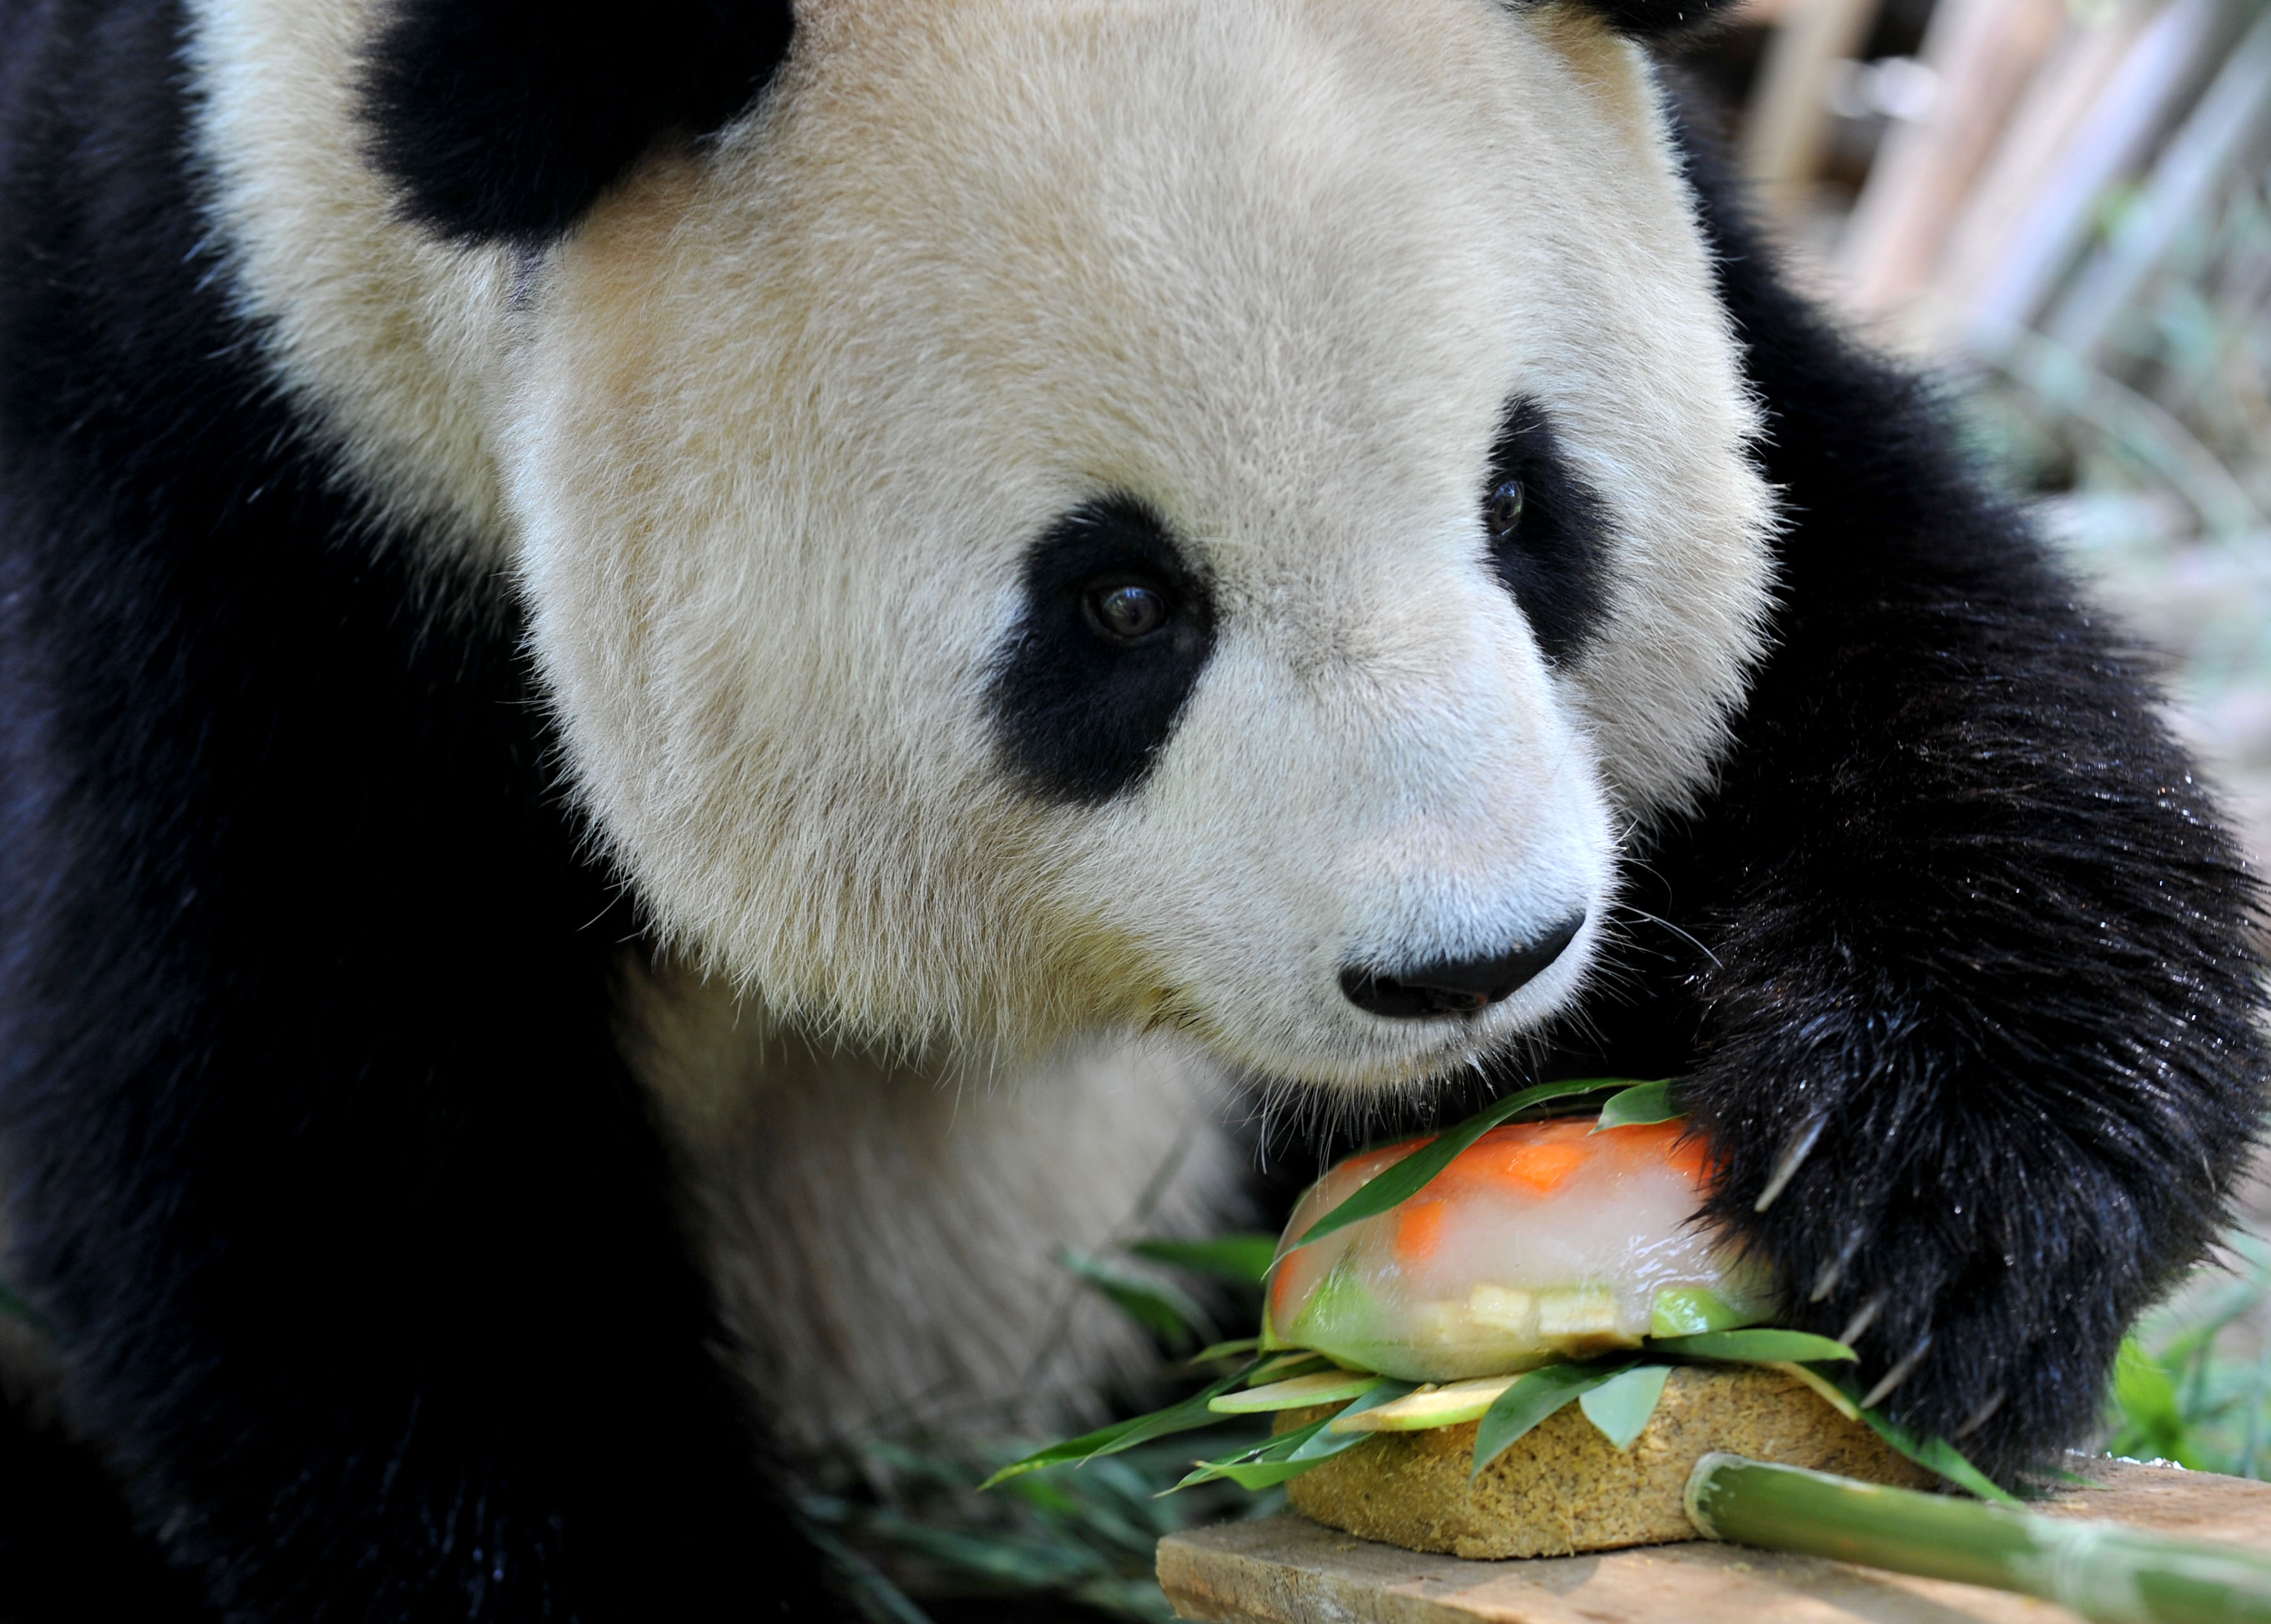panda: (19, 46, 2229, 1570)
